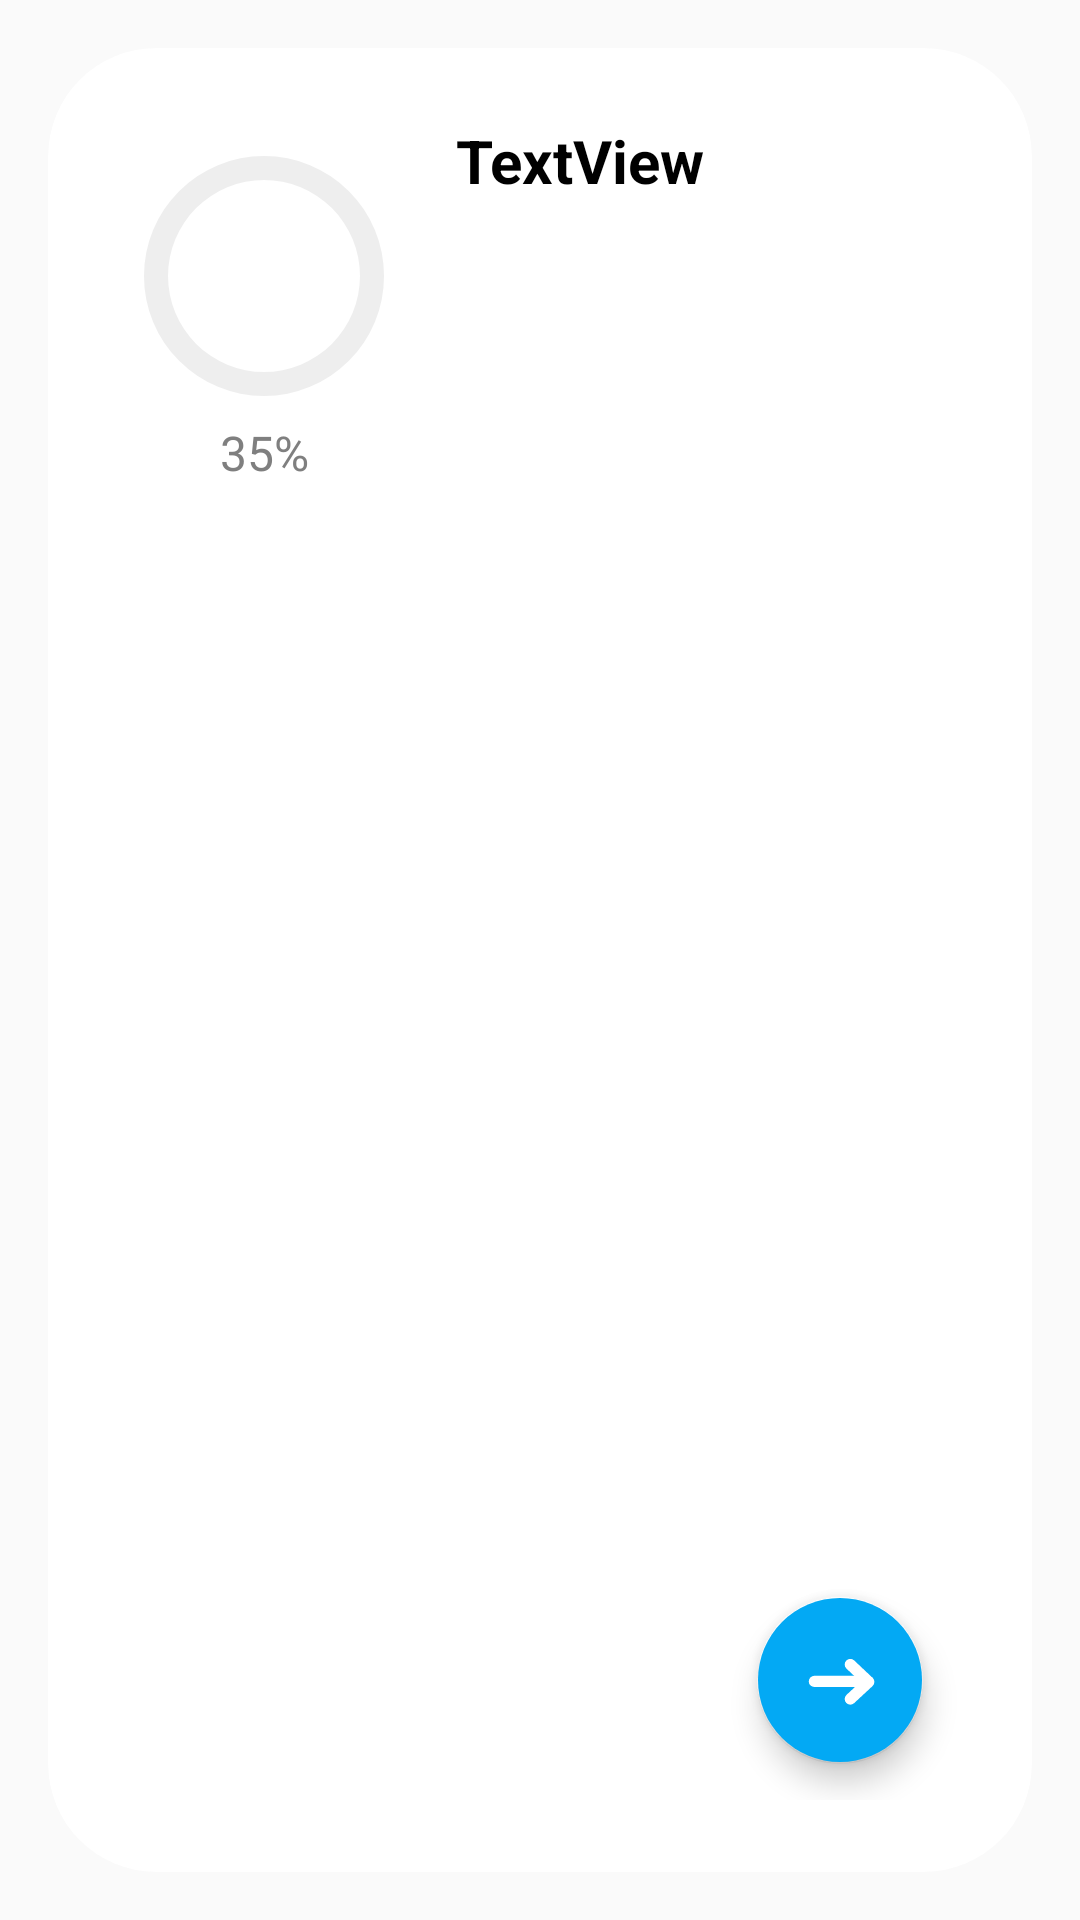

Screen size 1080px x 1920px. Icon name, then its box in pixels as rect(x1, y1, x2, y2):
right arrow: rect(758, 1598, 924, 1764)
